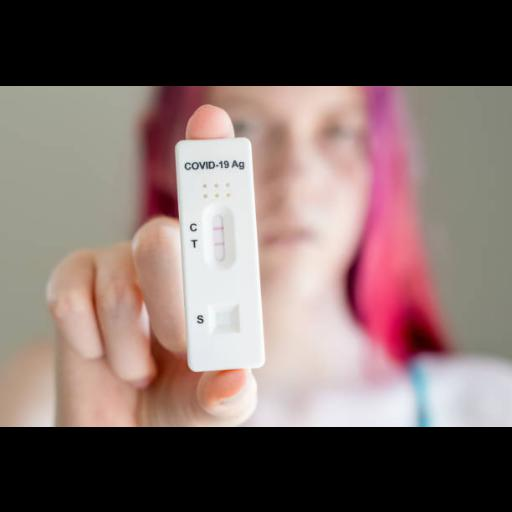Pos: (177, 138, 265, 370)
